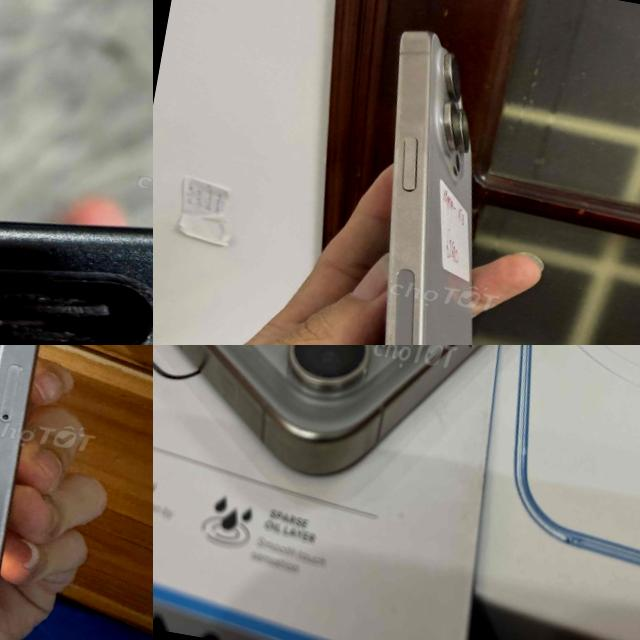gen_15: (301, 19, 567, 345), (153, 345, 640, 521), (0, 125, 153, 345), (0, 345, 100, 640)
